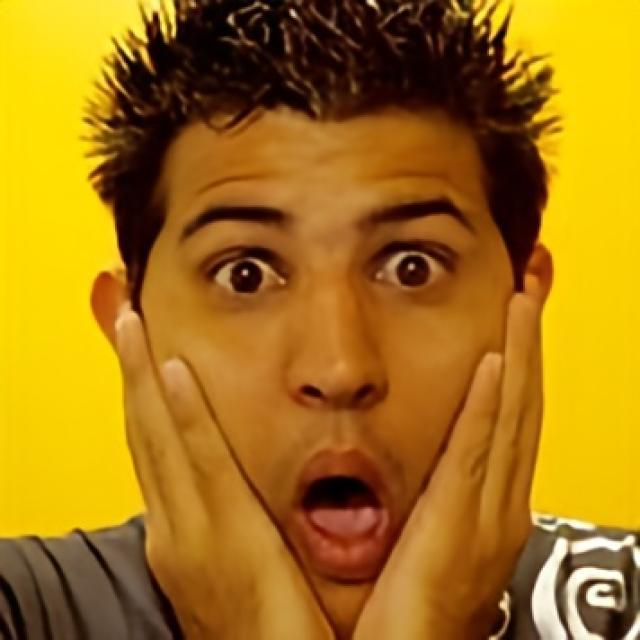fear: (136, 93, 516, 640)
